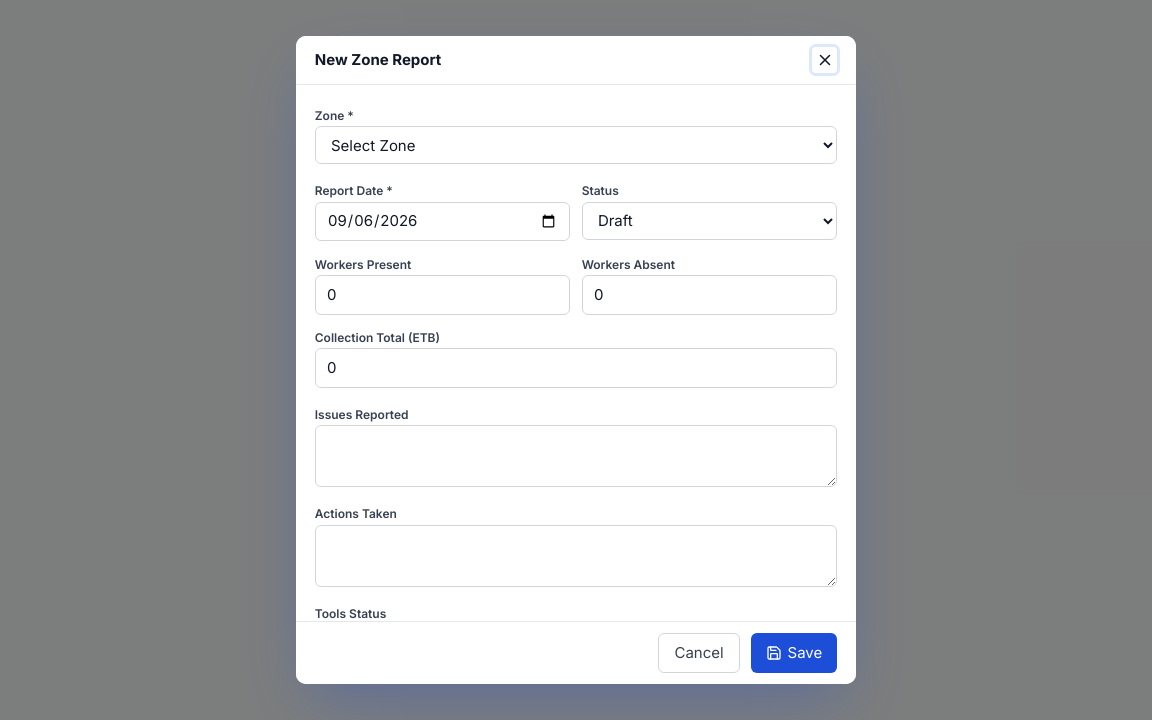
Test case: Zone report form validation (real component) › requires zone and date
Note: Clear date to trigger required
Step 1. Clear the date field labelled "Report Date *" → (443, 222), box [315,202,570,241]
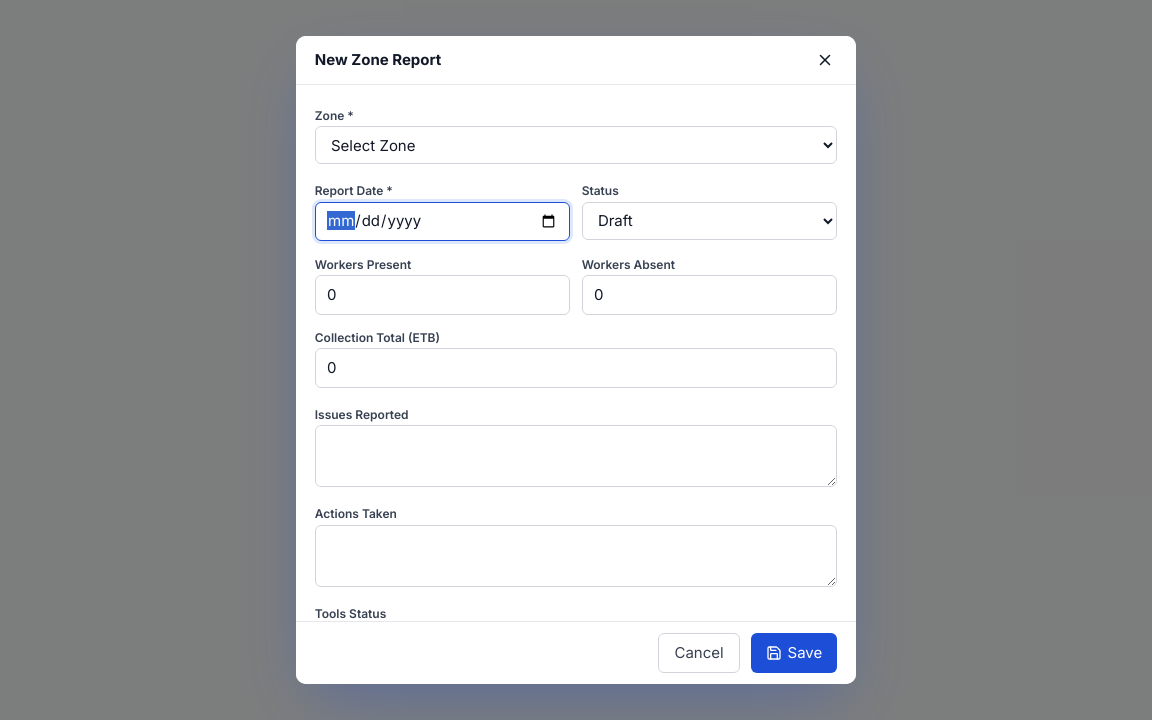
Step 2. Click the button "Save" → (794, 653), box [751,633,837,673]
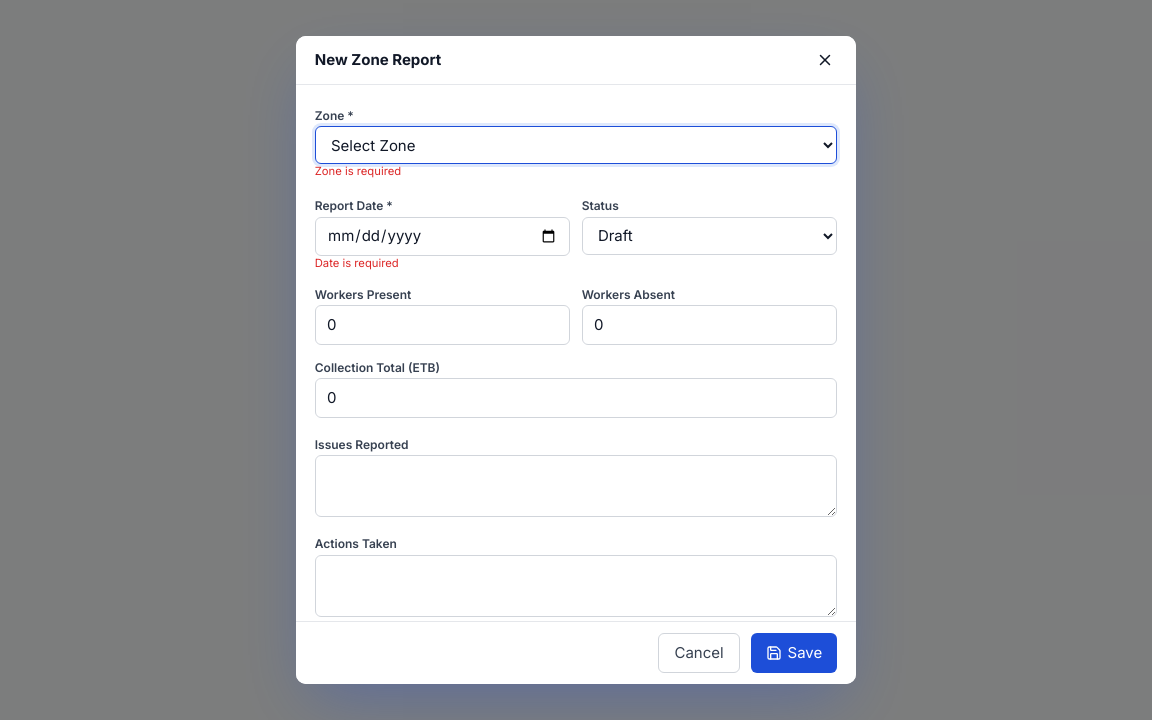
Expected: the message "Zone is required" is shown, [315,164,401,178]
